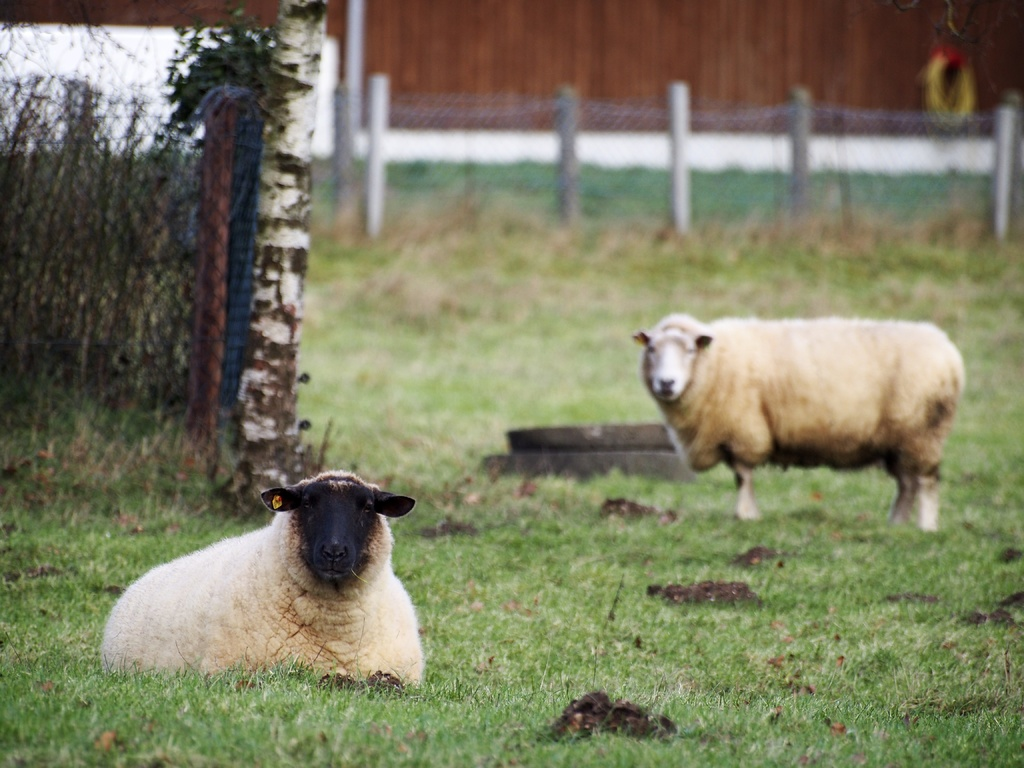sheep: (636, 308, 968, 526)
